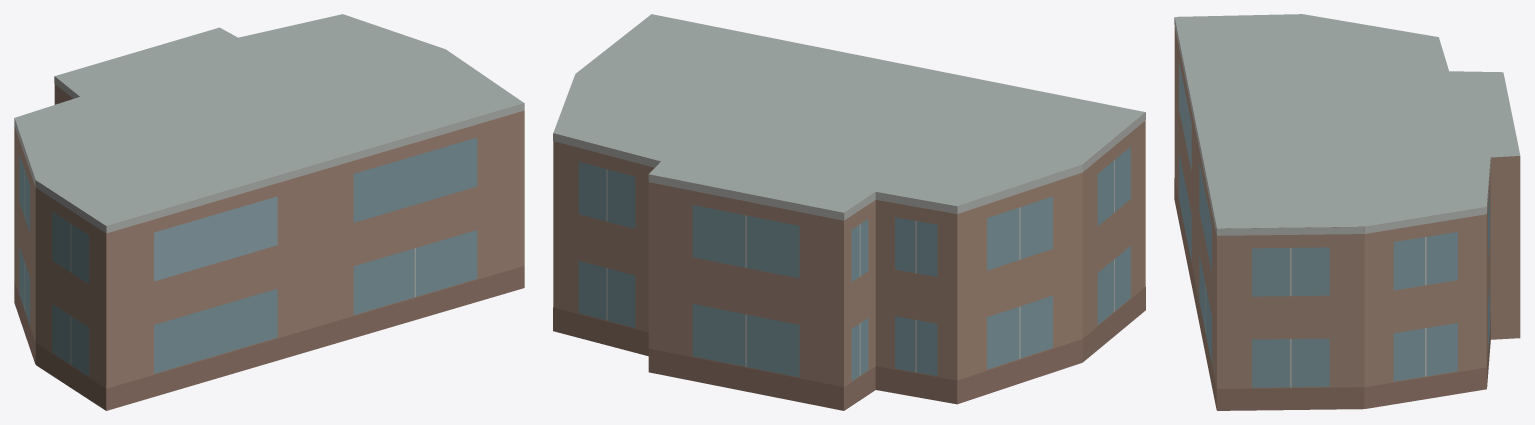
File: survey-upis-32956422.glb
3 views of the same model, side by side, from view 1: azimuth 30°, elevation 25°; view 2: azimuth 150°, elevation 25°; view 3: azimuth 270°, elevation 25° (orthographic). The views are drawn at different scales.
Parts seen in each view (by area): view 1: survey-upis-32956422.tmp; view 2: survey-upis-32956422.tmp; view 3: survey-upis-32956422.tmp.
Part boxes in pixels (bbox=[...]): survey-upis-32956422.tmp: bbox=[14, 14, 524, 410]; survey-upis-32956422.tmp: bbox=[553, 14, 1145, 410]; survey-upis-32956422.tmp: bbox=[1174, 14, 1520, 410].
Bounding box in the file's own units: 15.4 × 6.1 × 10.5.
